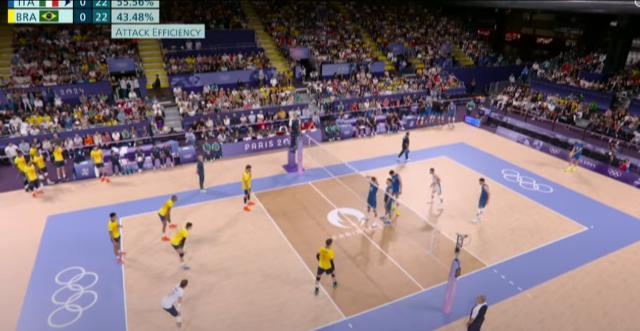Levantador: (314, 236, 336, 294)
Libero: (159, 278, 189, 331), (428, 168, 444, 206)
bola: (570, 152, 572, 158)
